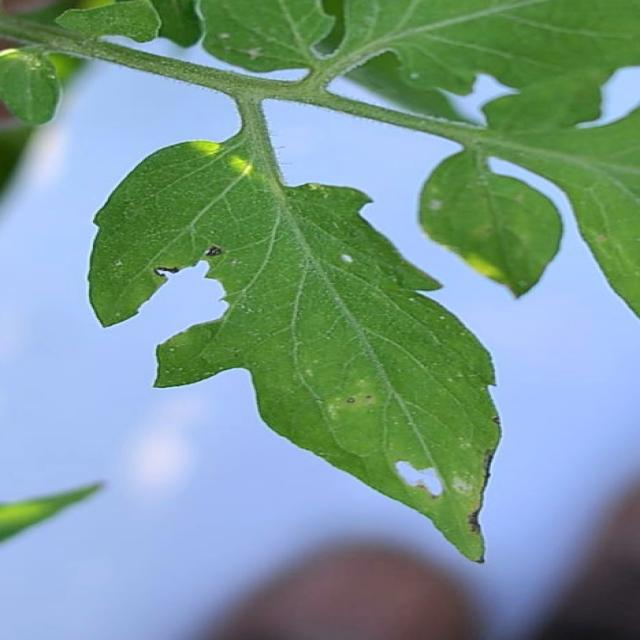infected: (138, 240, 523, 532)
